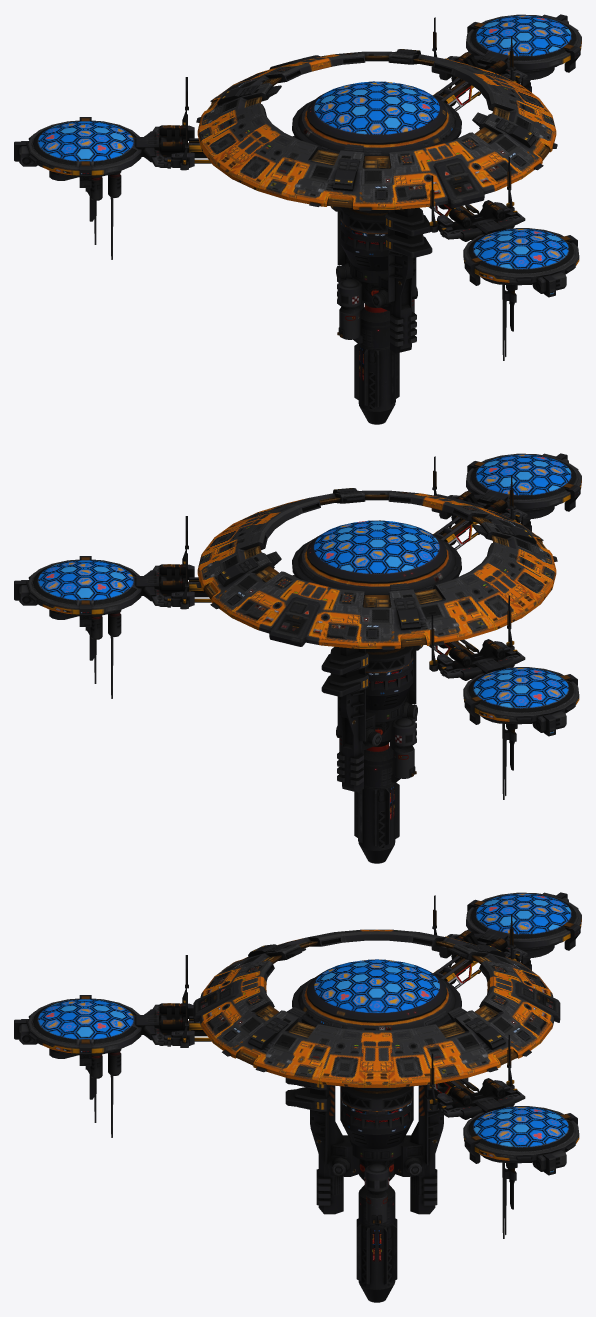
The model's file is station02.fbx.
The picture shows the model from 3 angles, top to bottom: view 1: azimuth 30°, elevation 25°; view 2: azimuth 150°, elevation 25°; view 3: azimuth 270°, elevation 25°; orthographic projection.
Visible parts, largest first — view 1: SF_OutpostStation-MS5; view 2: SF_OutpostStation-MS5; view 3: SF_OutpostStation-MS5.
Boxes of the visible parts, bbox=[...] form: SF_OutpostStation-MS5: bbox=[14, 14, 581, 424]; SF_OutpostStation-MS5: bbox=[14, 453, 581, 863]; SF_OutpostStation-MS5: bbox=[14, 892, 581, 1302].
Bounding box in the file's own units: 3073 × 1739 × 2747.
